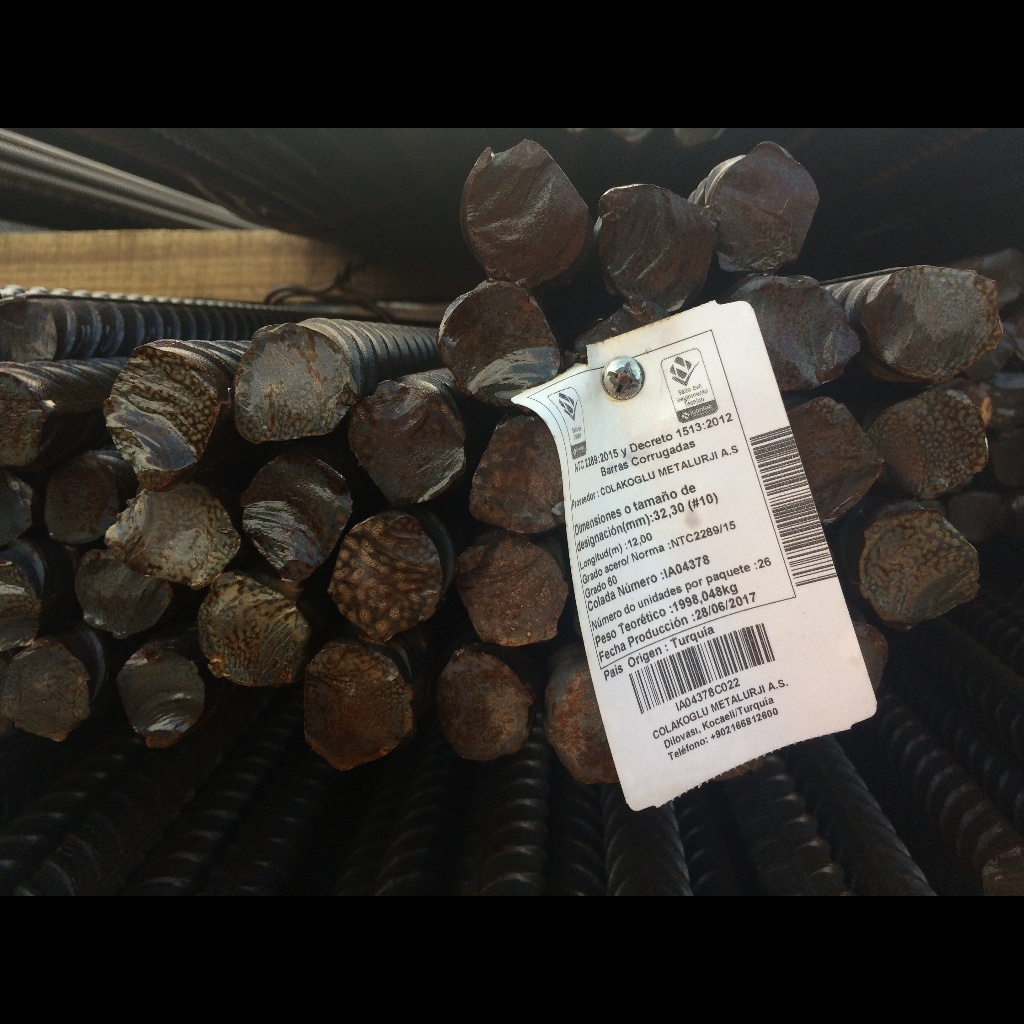dipstick: (454, 135, 594, 289), (97, 337, 231, 493), (855, 253, 1010, 386), (584, 176, 717, 318), (327, 502, 451, 642), (726, 272, 875, 388), (294, 643, 424, 775), (851, 499, 987, 624), (703, 138, 823, 272), (236, 314, 362, 440), (345, 376, 472, 500), (429, 276, 558, 398), (96, 482, 245, 585), (194, 568, 315, 690), (455, 530, 577, 650), (245, 457, 359, 578), (428, 649, 538, 766), (789, 395, 888, 522), (879, 393, 1006, 492), (111, 641, 230, 746), (4, 643, 91, 749), (78, 552, 180, 633), (39, 460, 137, 544), (3, 363, 57, 469)
